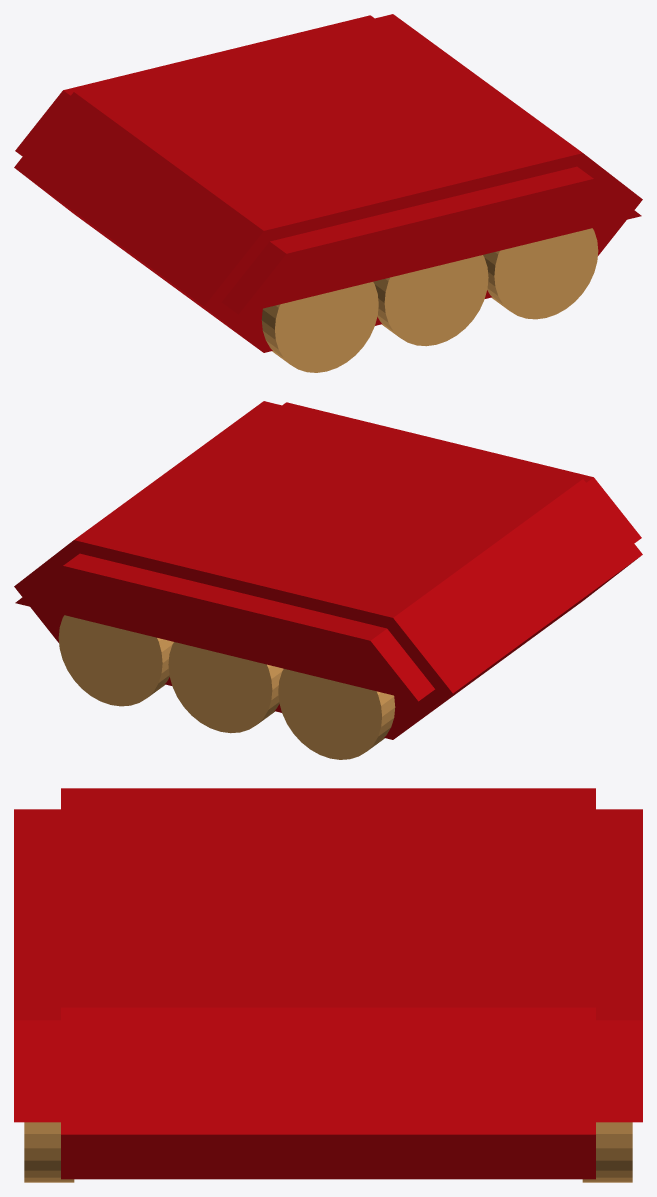
The model's file is tank_body.glb.
3 renders of one model, top to bottom at view 1: azimuth 30°, elevation 25°; view 2: azimuth 150°, elevation 25°; view 3: azimuth 270°, elevation 25°, orthographic. The views are drawn at different scales.
Parts seen in each view (by area): view 1: Base, Cylinder.001, Cylinder.002, Cylinder; view 2: Base, Cylinder.001, Cylinder.002, Cylinder; view 3: Base, Cylinder.002.
Boxes of the visible parts, x1=… form: Base: x1=14, y1=14, x2=642, y2=352; Cylinder.001: x1=261, y1=282, x2=378, y2=372; Cylinder.002: x1=483, y1=228, x2=598, y2=319; Cylinder: x1=373, y1=255, x2=488, y2=346; Base: x1=14, y1=401, x2=642, y2=739; Cylinder.001: x1=278, y1=669, x2=395, y2=759; Cylinder.002: x1=58, y1=615, x2=173, y2=706; Cylinder: x1=168, y1=642, x2=283, y2=733; Base: x1=14, y1=788, x2=642, y2=1179; Cylinder.002: x1=24, y1=1122, x2=632, y2=1182.
Bounding box in the file's own units: 2 × 0.6233 × 1.76.
